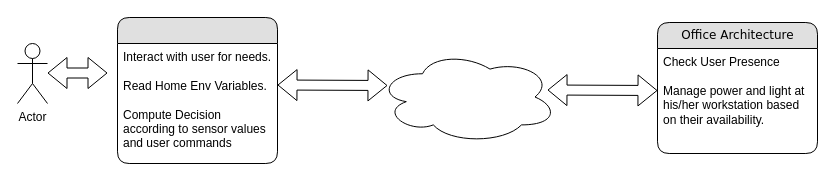
This 835x181 diagram has some shape labels left out. Each missing label, with the box of its shape:
Cloud Connecting home and office areas: (376, 50, 558, 144)
Home Architecture: (116, 16, 278, 164)
